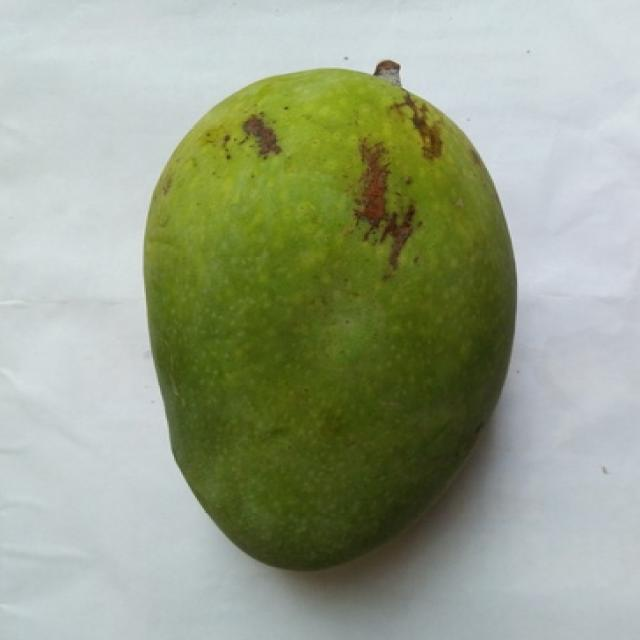Mango: (144, 62, 515, 568)
